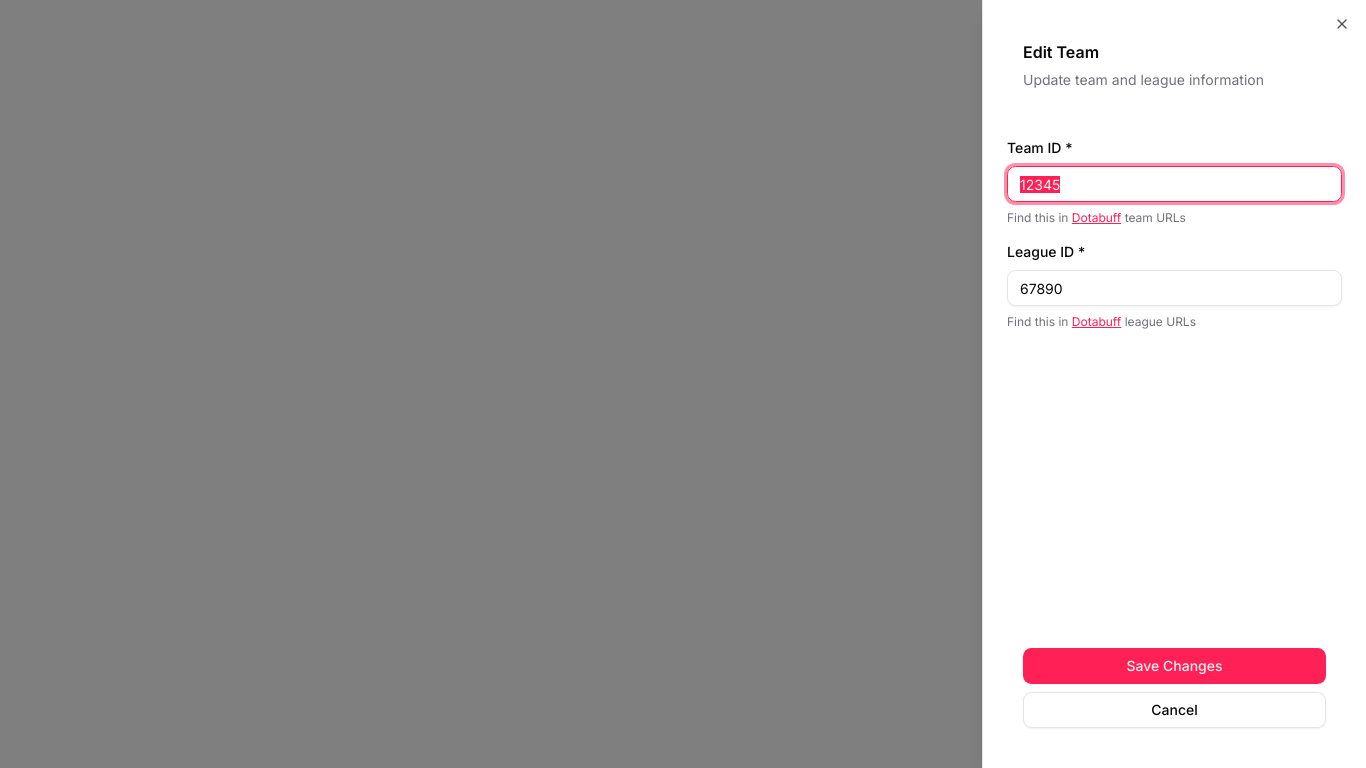
Test: EditTeamSheet › should disable save button when team ID is empty
This screenshot has width=1366, height=768.
// Clear the team ID input
Clear the field labelled "Team ID *" at (1174, 184), box 1007,166 -> 1342,202
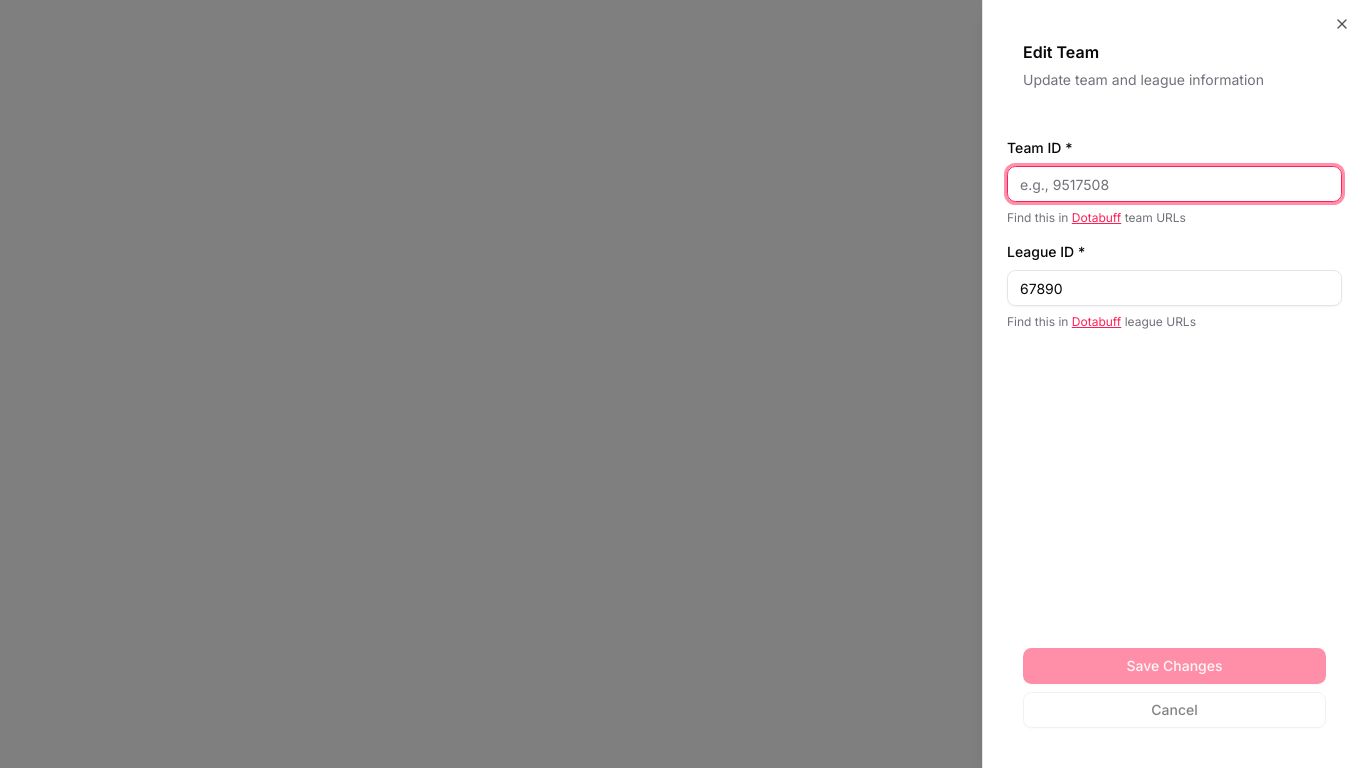
Result: the button "Save Changes" is disabled at 1023,648 -> 1326,684
